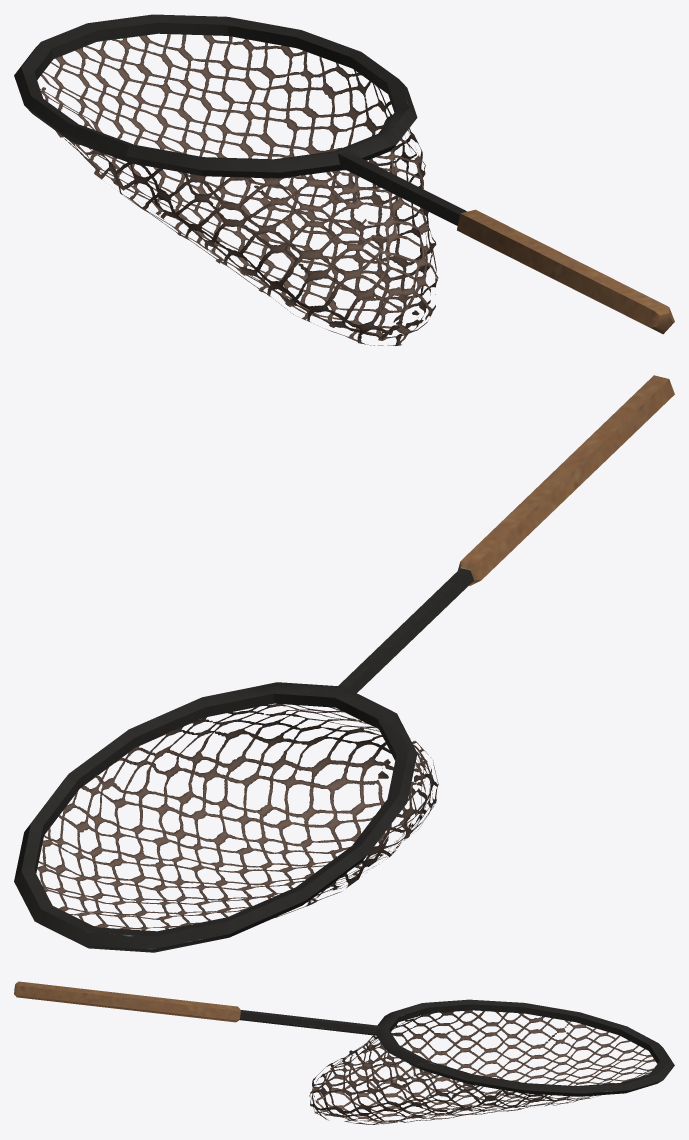
File: Rack.fbx
The picture shows the model from 3 angles, top to bottom: view 1: azimuth 30°, elevation 25°; view 2: azimuth 150°, elevation 25°; view 3: azimuth 270°, elevation 25°; orthographic projection. The views are drawn at different scales.
Visible parts, largest first — view 1: Rack; view 2: Rack; view 3: Rack.
Boxes of the visible parts, x1,y1,x2,y2 form: Rack: (14,14,674,345); Rack: (14,375,674,952); Rack: (14,981,674,1124).
Bounding box in the file's own units: 29.73 × 22.26 × 98.59.
